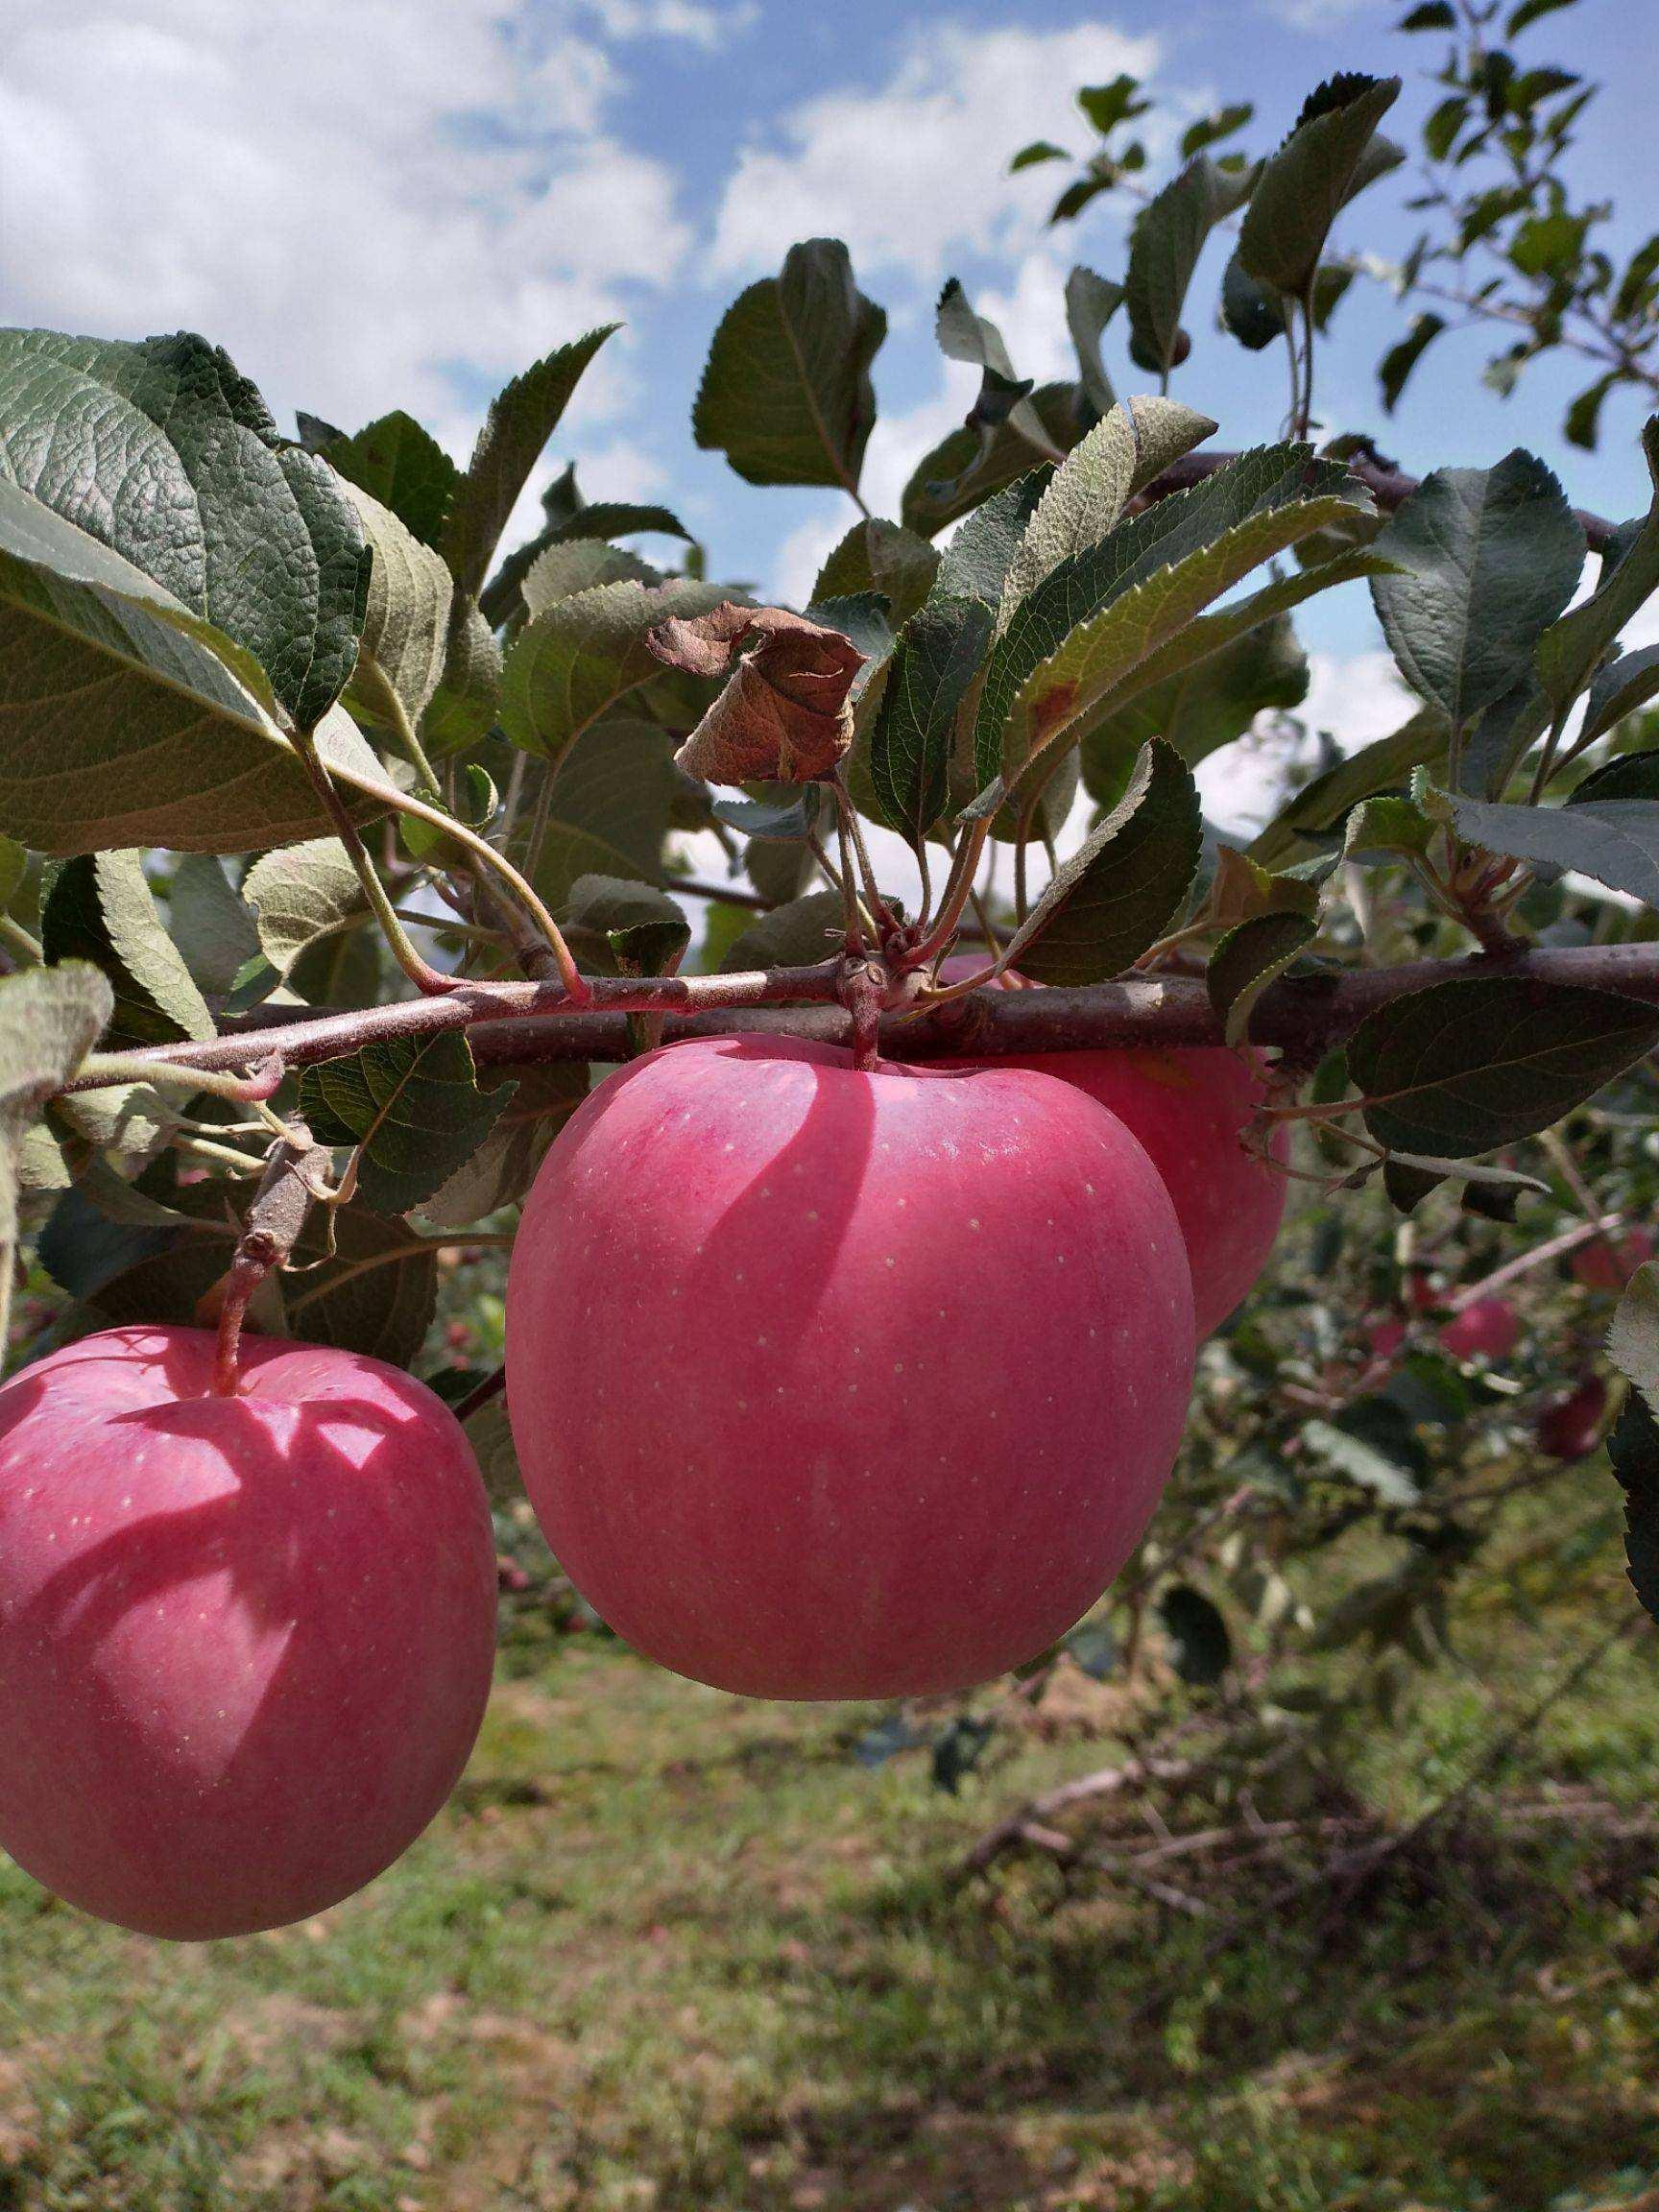apple: (497, 1035, 1204, 1705), (2, 1303, 505, 1935)
